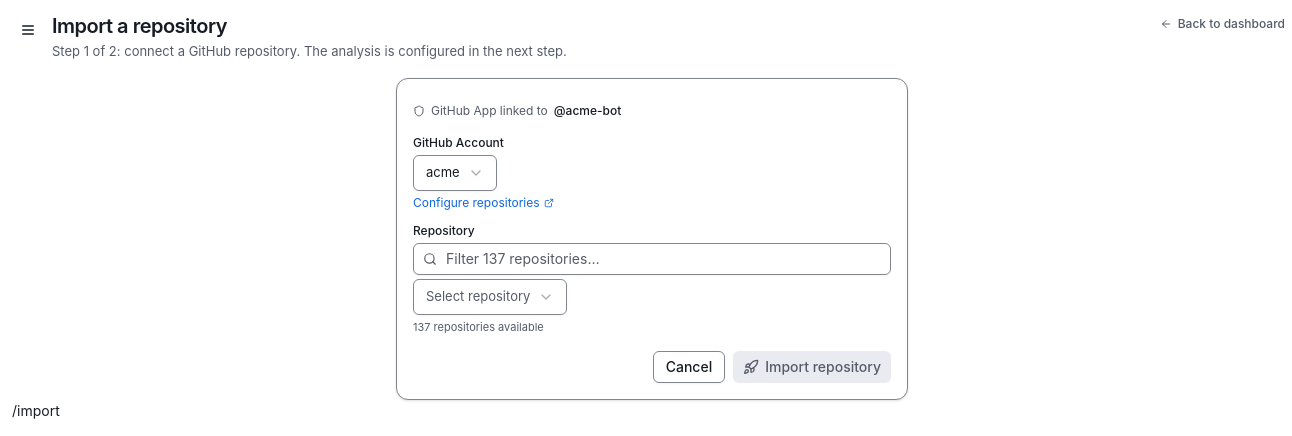
Scenario: ImportPage — finding a repository in a large account (bug #67) › says so instead of showing an empty dropdown when nothing matches
Expected: the dropdown named "GitHub account" reads "acme", [413,154,497,190]
Step 1. Type "no-such-repo" into the field named "Filter repositories" → (652, 258), box [413,242,891,274]
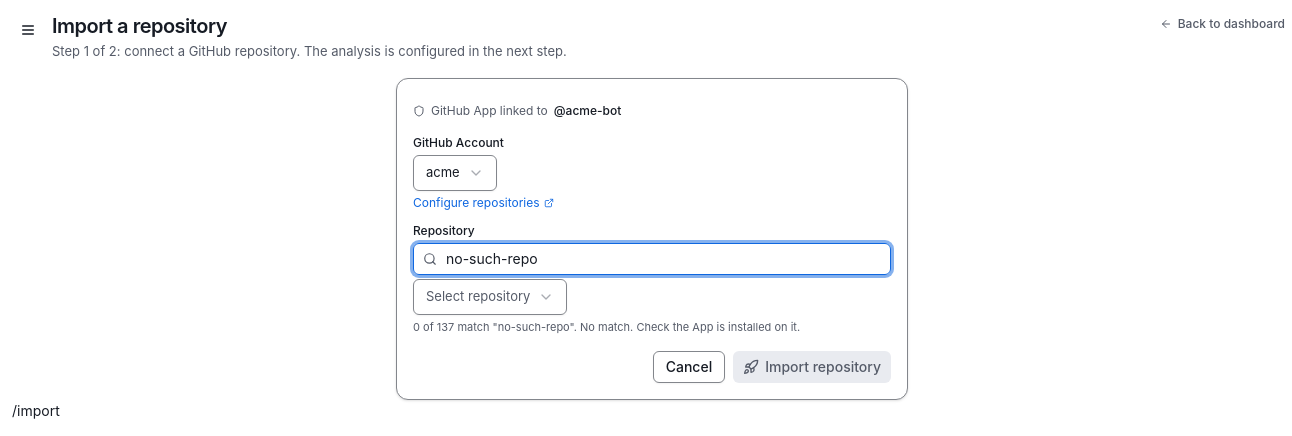
Expected: the text "0 of 137 match" is shown, [413,320,574,334]
Expected: the text "No match. Check the App is installed on it." is shown, [574,320,800,334]
